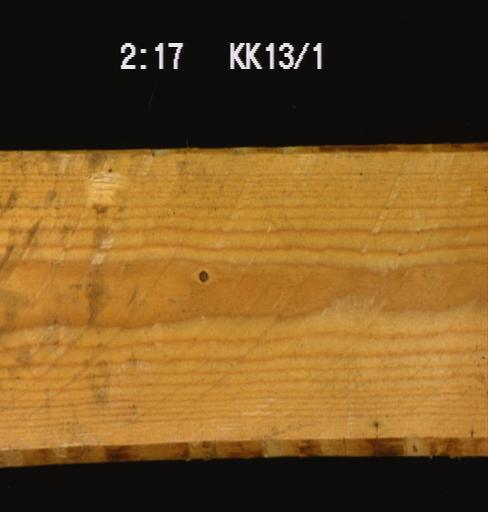dry_knot: (194, 263, 210, 285)
wave: (1, 432, 483, 466)
